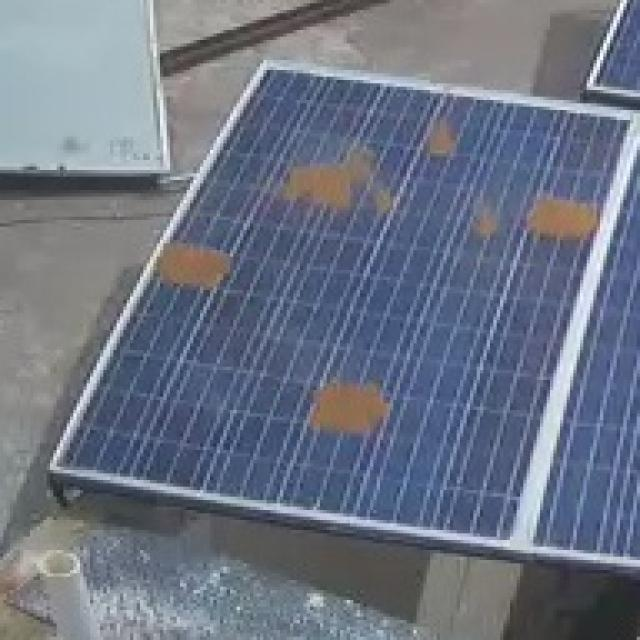Dusty: (263, 132, 393, 221), (307, 370, 394, 444), (519, 180, 605, 244), (155, 240, 237, 296), (415, 110, 461, 160), (470, 191, 502, 250)
